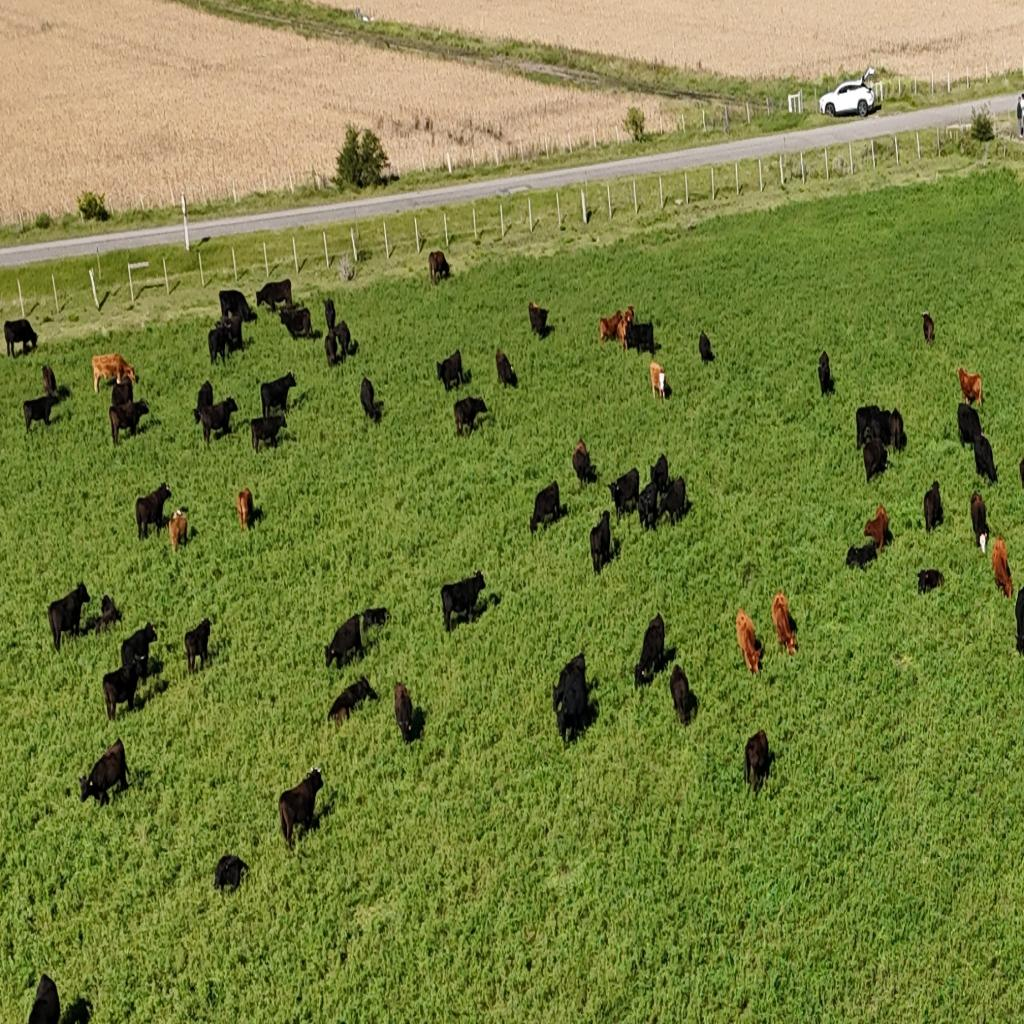cow: (279, 767, 323, 853), (553, 654, 590, 748), (78, 740, 128, 808), (47, 581, 90, 652), (441, 570, 486, 632), (327, 676, 375, 728), (102, 660, 142, 720), (634, 612, 666, 687), (324, 612, 364, 670), (196, 395, 238, 448), (135, 480, 172, 540), (120, 622, 157, 680), (92, 352, 136, 395), (744, 729, 772, 795), (83, 595, 123, 641), (771, 590, 798, 658), (110, 399, 150, 444), (736, 609, 762, 676), (260, 371, 297, 418), (609, 468, 640, 524), (656, 475, 688, 529), (529, 480, 561, 534), (27, 973, 61, 1023), (669, 662, 693, 728), (990, 536, 1014, 602), (454, 395, 489, 439), (856, 405, 889, 451), (213, 853, 248, 895), (184, 617, 210, 673), (394, 680, 416, 744), (250, 414, 286, 453), (218, 289, 257, 325), (23, 393, 57, 434), (4, 318, 38, 358), (973, 432, 998, 486), (590, 509, 611, 573), (638, 475, 661, 533), (864, 504, 889, 556), (255, 278, 292, 312), (435, 350, 464, 393), (279, 305, 313, 341), (957, 402, 982, 450), (862, 438, 888, 484), (625, 320, 656, 357), (923, 479, 943, 534), (360, 375, 382, 424), (957, 367, 983, 408), (970, 490, 988, 549), (846, 540, 879, 571), (572, 438, 592, 486), (223, 312, 245, 355), (1012, 582, 1024, 660), (194, 380, 214, 426), (616, 304, 634, 354), (495, 348, 517, 388), (168, 508, 188, 552), (650, 452, 669, 498), (889, 407, 907, 455), (61, 997, 92, 1024), (649, 358, 668, 401), (111, 376, 135, 410), (528, 300, 549, 338), (208, 323, 226, 367), (236, 488, 254, 532), (428, 250, 450, 285), (598, 311, 622, 343), (362, 605, 390, 632), (333, 319, 352, 358), (917, 569, 944, 594), (818, 350, 832, 396), (328, 702, 350, 729), (42, 363, 58, 400), (324, 331, 340, 368), (698, 330, 714, 364), (83, 614, 107, 634), (356, 674, 374, 700), (922, 311, 935, 346), (323, 297, 335, 333), (192, 407, 201, 424)
